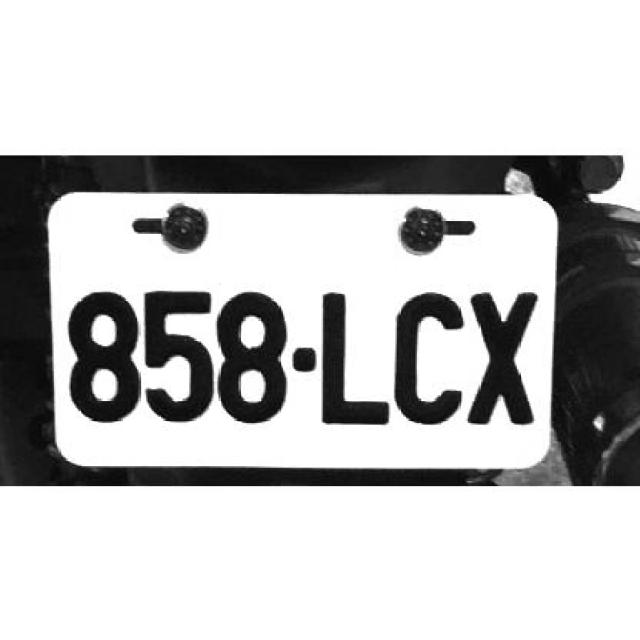-: (295, 345, 317, 369)
5: (138, 288, 216, 422)
8: (214, 289, 291, 428), (67, 284, 142, 424)
C: (392, 288, 470, 428)
L: (323, 289, 391, 431)
X: (468, 288, 538, 429)
